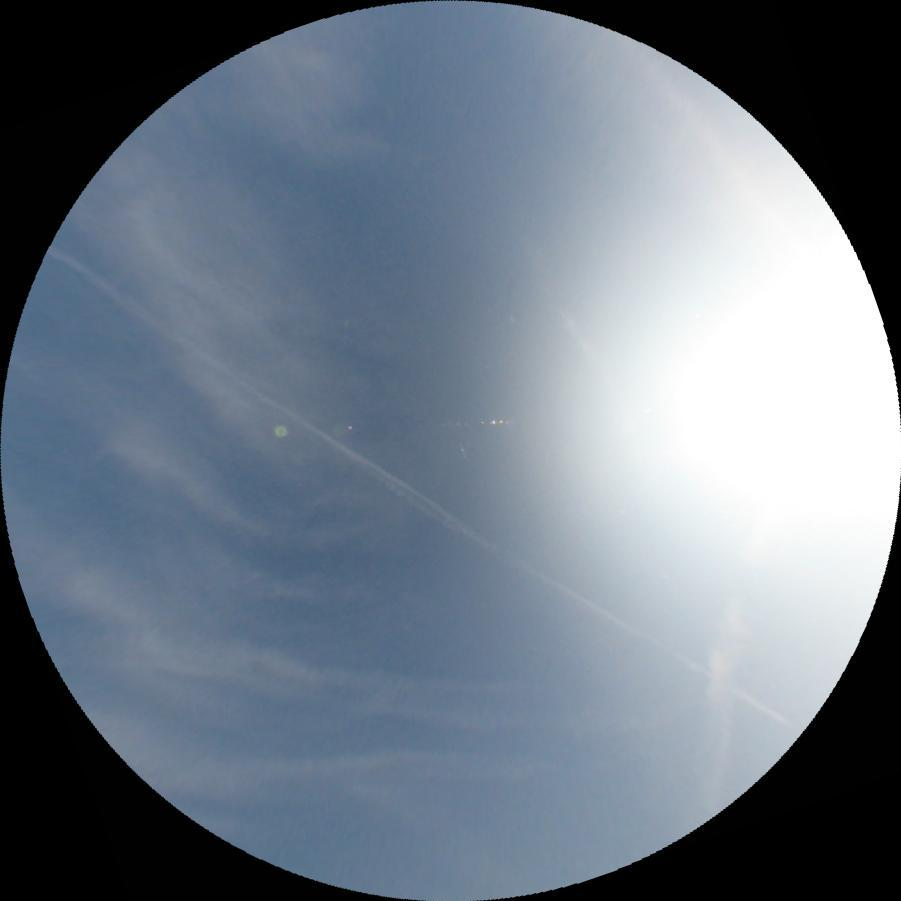contrail old: (38, 244, 794, 743)
contrail veryold: (160, 632, 706, 747), (682, 616, 749, 831)
sun: (657, 264, 901, 531)
